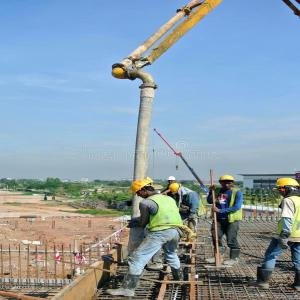white: (168, 177, 176, 184)
yellow: (131, 180, 156, 199), (276, 179, 300, 196), (219, 176, 236, 189), (171, 184, 185, 195)
